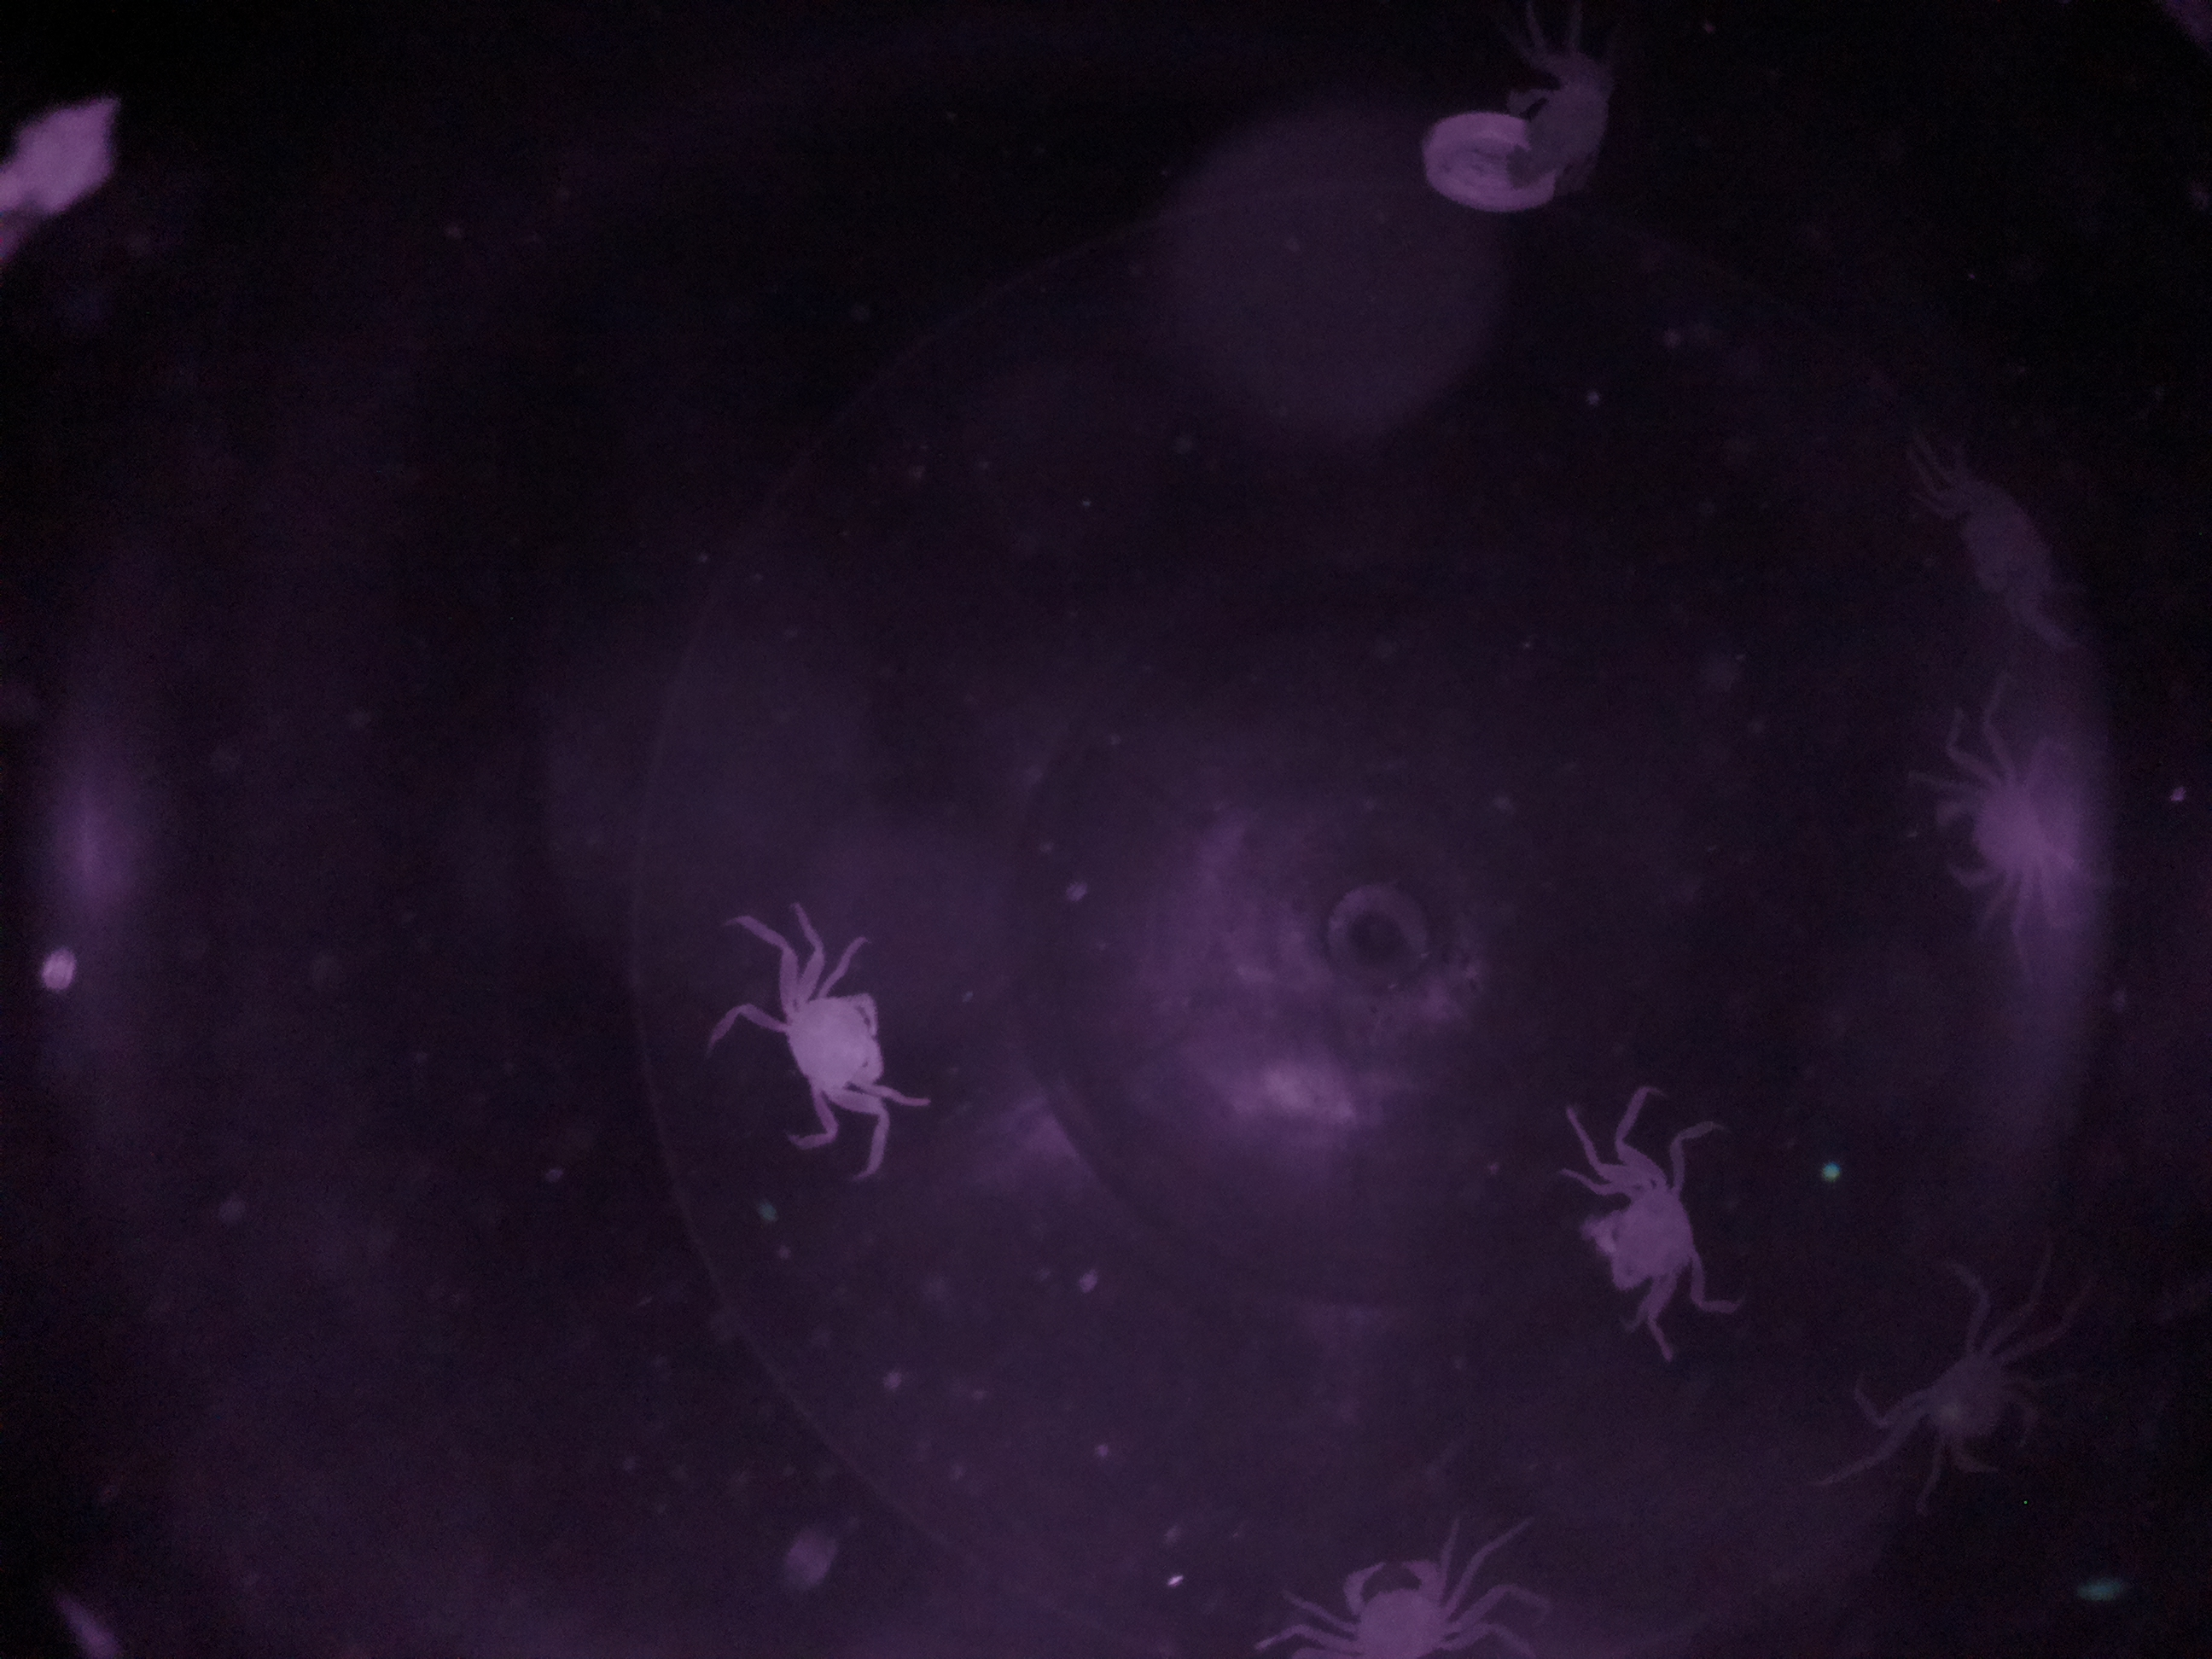Crab: (1566, 1148, 1726, 1345), (747, 950, 909, 1133), (1318, 1542, 1482, 1659)
